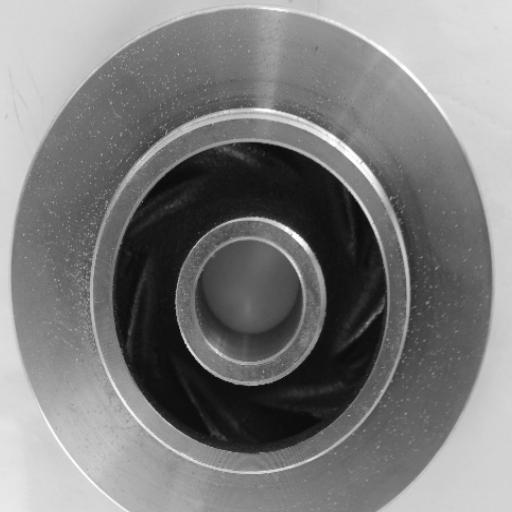polished_casting: (13, 9, 495, 512)
